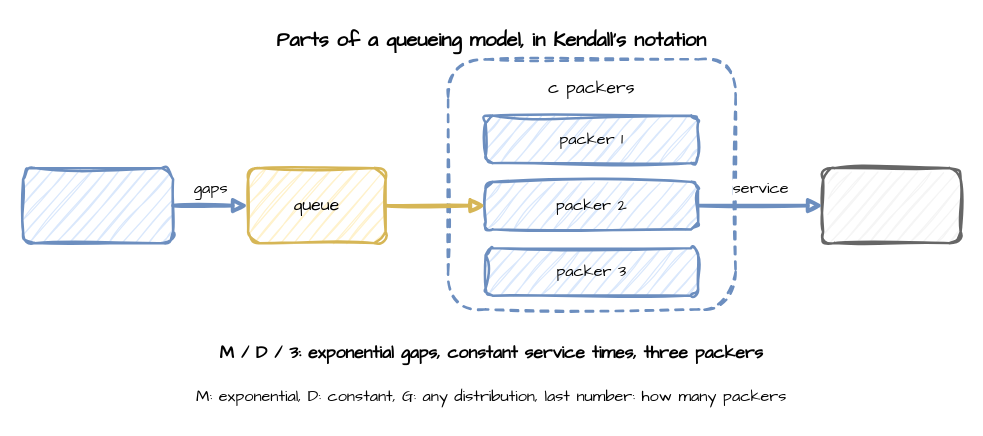
The diagram is 983 pixels wide and 436 high, and some of its shapes have lost their labels. The centre of each missing label's shape, as x and y in pixels:
orders: [97,205]
packed: [891,205]
